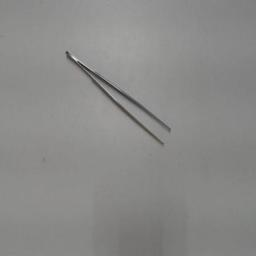Gillies Toothed Dissector: (61, 46, 175, 154)
